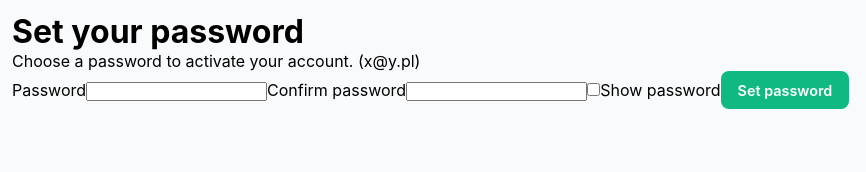
Test: SetPasswordPage › blocks submission when passwords do not match
expect the heading "Set your password" is shown: met, box [12, 12, 304, 51]
Type "SecurePass123" into the password field labelled "Password". click: (176, 91)
box: [86, 82, 267, 101]
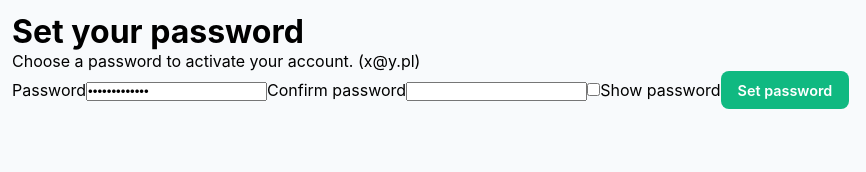
Type "Different123" into the password field labelled "Confirm password". click: (497, 91)
box: [406, 82, 587, 101]
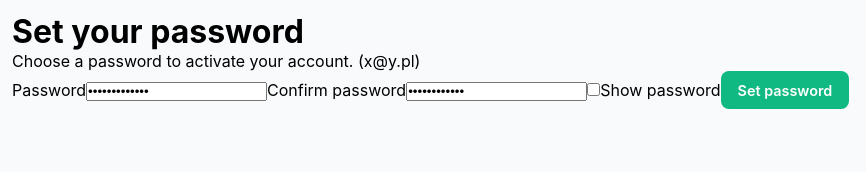
Click the button "Set password". click: (785, 90)
box: [721, 71, 849, 109]
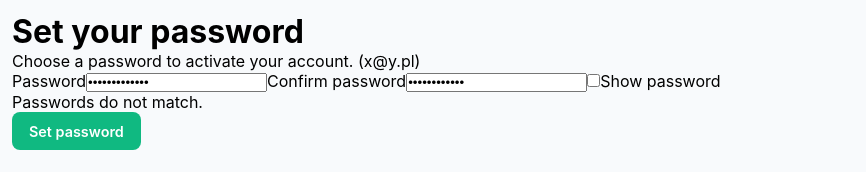
expect the text "Passwords do not match." is shown: met, box [12, 92, 203, 112]
